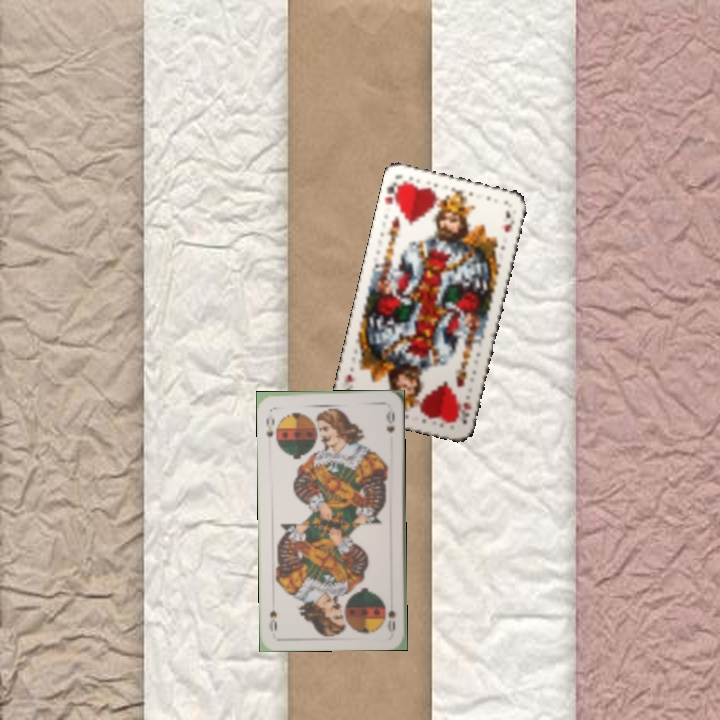HK: (381, 177, 406, 208), (452, 397, 474, 427)
SO: (383, 606, 398, 634), (262, 414, 277, 441)
